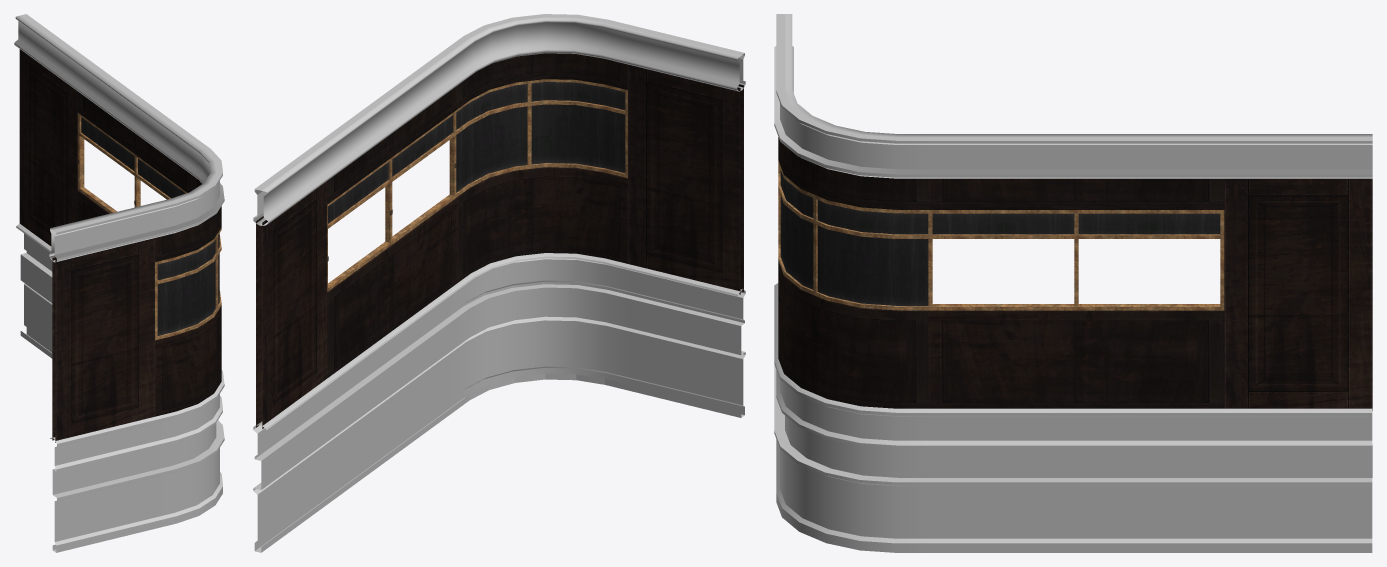
File: engineroom_balcony_office_corner.DAE
3 views of the same model, side by side, from view 1: azimuth 30°, elevation 25°; view 2: azimuth 150°, elevation 25°; view 3: azimuth 270°, elevation 25° (orthographic). The views are drawn at different scales.
Visible parts, largest first — view 1: Box002, balcony_corner_metal001, Plane001, balcony_corner_bricks001, Box004; view 2: Box002, balcony_corner_metal001, Plane001, balcony_corner_bricks001, Box004; view 3: balcony_corner_metal001, Box002, Plane001, balcony_corner_bricks001, Box004.
Part boxes in pixels (x1=…): Box002: x1=19, y1=49, x2=221, y2=442; balcony_corner_metal001: x1=14, y1=14, x2=224, y2=552; Plane001: x1=81, y1=117, x2=219, y2=335; balcony_corner_bricks001: x1=20, y1=255, x2=216, y2=494; Box004: x1=78, y1=113, x2=221, y2=340; Box002: x1=256, y1=53, x2=743, y2=428; balcony_corner_metal001: x1=253, y1=14, x2=745, y2=552; Plane001: x1=328, y1=82, x2=625, y2=223; balcony_corner_bricks001: x1=261, y1=287, x2=741, y2=489; Box004: x1=327, y1=79, x2=627, y2=291; balcony_corner_metal001: x1=774, y1=14, x2=1372, y2=552; Box002: x1=778, y1=137, x2=1372, y2=410; Plane001: x1=780, y1=170, x2=1220, y2=305; balcony_corner_bricks001: x1=785, y1=415, x2=1372, y2=477; Box004: x1=778, y1=160, x2=1224, y2=310.
Bounding box in the file's own units: 4.08 × 6.14 × 8.08.
